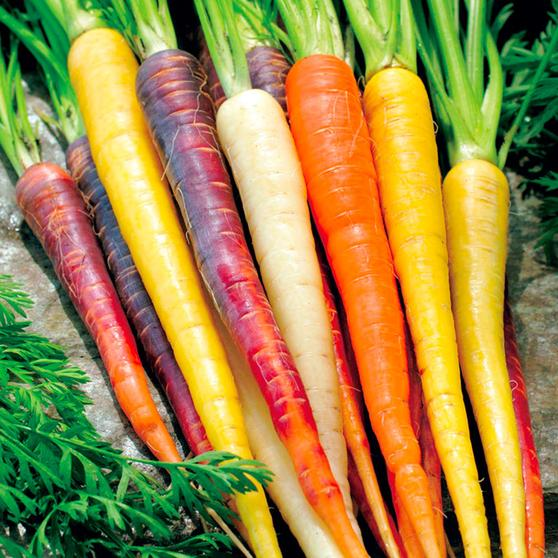carrot: (285, 48, 453, 551)
